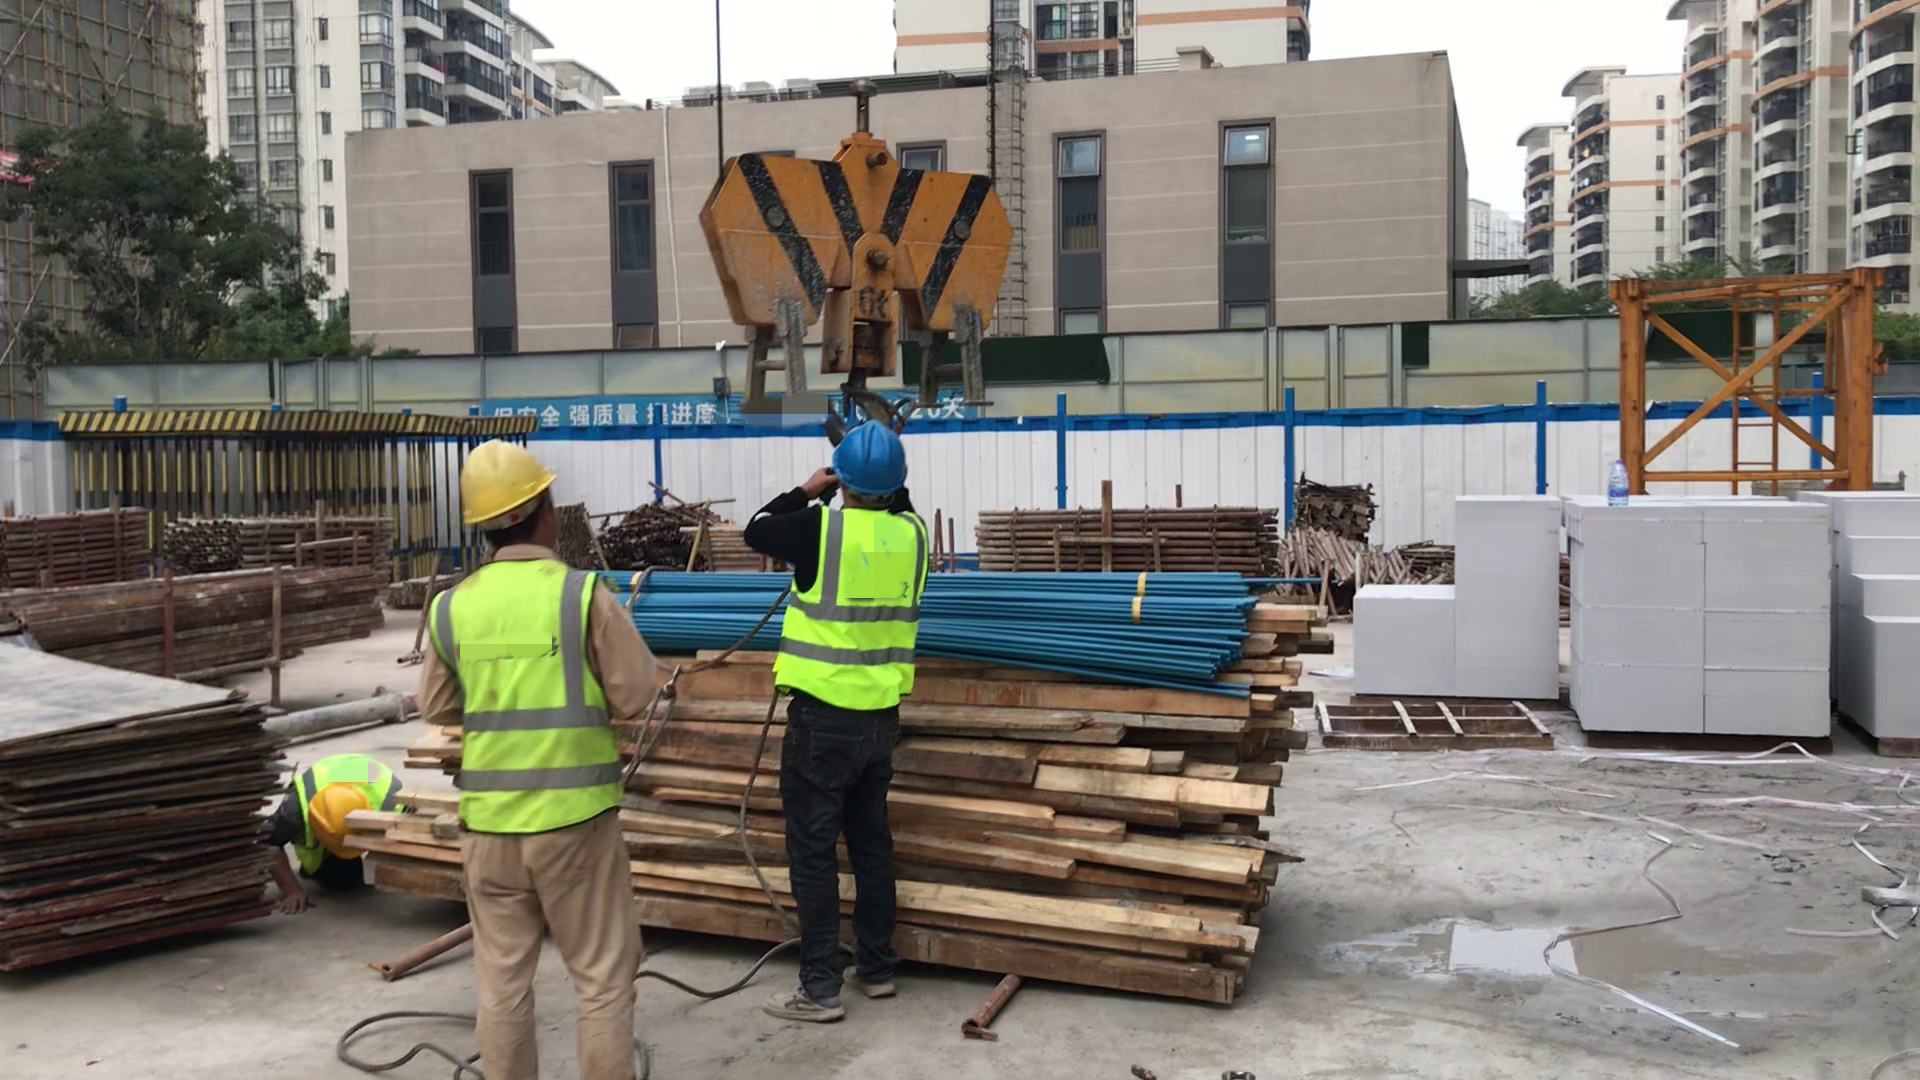board: (1, 639, 306, 953)
brick: (1580, 504, 1832, 730), (1338, 483, 1574, 706), (1810, 476, 1920, 758)
helmet: (456, 438, 558, 517), (826, 419, 910, 508), (304, 790, 371, 845)
hook: (699, 146, 1023, 405)
person: (418, 441, 668, 1080), (741, 417, 933, 1027)
scaffold: (955, 489, 1288, 582), (148, 500, 395, 576), (1, 490, 162, 602)
slogan: (479, 401, 731, 428)
vest: (428, 549, 644, 846), (775, 502, 934, 717), (286, 754, 396, 830)
wood: (382, 648, 1308, 1002)
